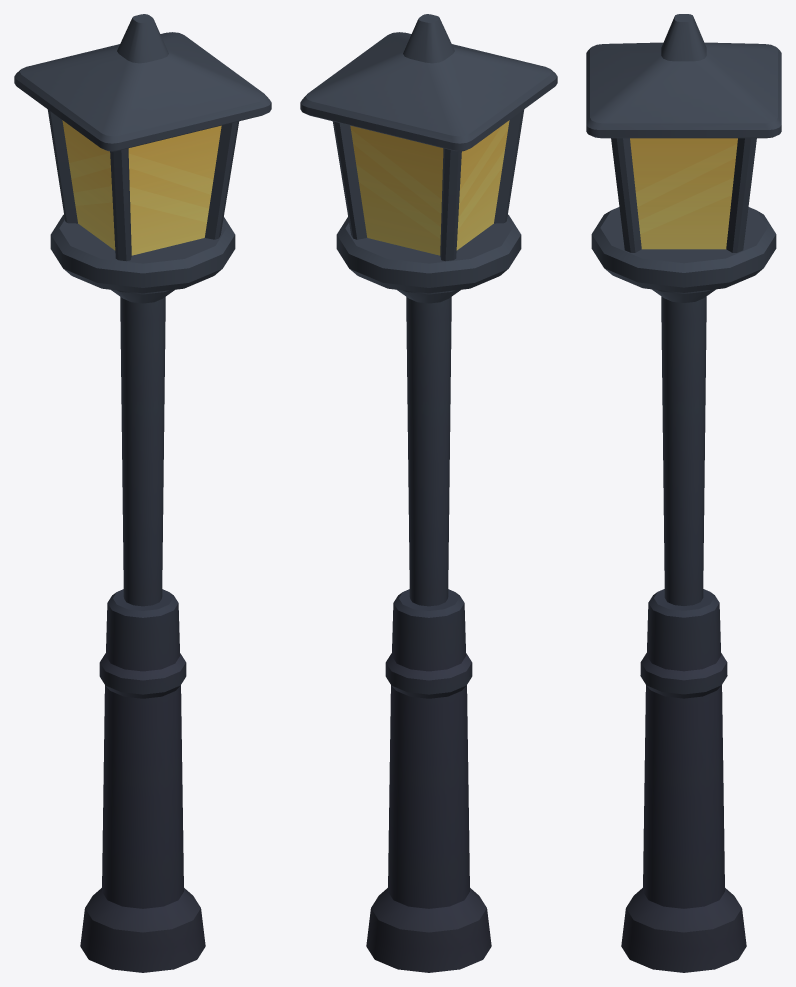
Rendered from StreetLamp_1_1.glb.
3 views of the same model, side by side, from view 1: azimuth 30°, elevation 25°; view 2: azimuth 150°, elevation 25°; view 3: azimuth 270°, elevation 25° (orthographic).
Parts seen in each view (by area): view 1: StreetLamp_1_1; view 2: StreetLamp_1_1; view 3: StreetLamp_1_1.
Boxes of the visible parts, <box> form: StreetLamp_1_1: <box>14,14,271,972</box>; StreetLamp_1_1: <box>300,14,557,972</box>; StreetLamp_1_1: <box>586,14,781,972</box>.
Size of the model in its own units: 0.6015 by 3.15 by 0.6015.
Materials: 2 (2 with a texture image).
